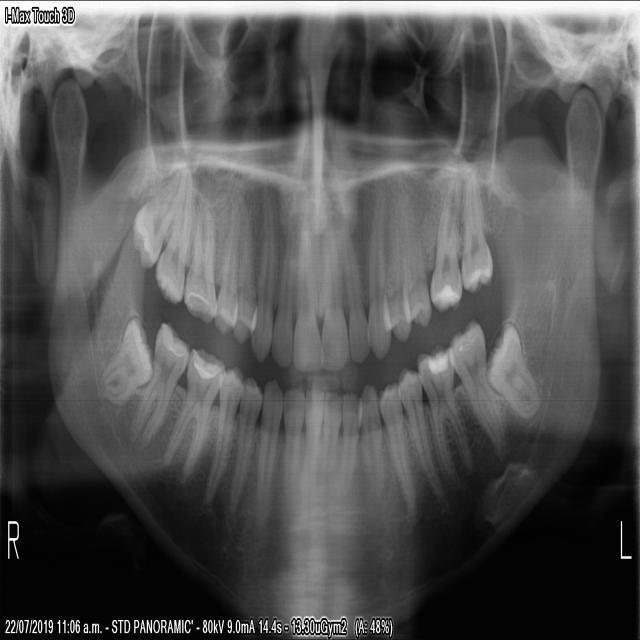LCD: (355, 371, 386, 517)
LCU: (363, 171, 392, 369)
LID: (339, 382, 362, 506), (319, 383, 343, 501)
LIU: (316, 206, 349, 378), (336, 219, 371, 368)
LMD: (412, 331, 476, 492), (444, 308, 513, 457), (482, 303, 544, 430)
LMU: (426, 165, 463, 320), (457, 157, 495, 300)
LPMD: (396, 358, 446, 506), (376, 372, 419, 525)
LPMU: (379, 166, 412, 347), (398, 169, 431, 336)
RCD: (252, 365, 285, 524)
RCU: (246, 177, 279, 367)
RID: (294, 376, 325, 507), (278, 376, 305, 518)
RIU: (289, 206, 324, 380), (270, 215, 298, 376)
RMD: (121, 309, 192, 462), (157, 338, 225, 497), (90, 304, 155, 415)
RMU: (127, 155, 183, 275), (152, 170, 192, 313), (182, 183, 217, 333)
RPMD: (196, 357, 246, 512), (222, 362, 264, 517)
RPMU: (208, 178, 240, 343), (230, 185, 258, 347)
